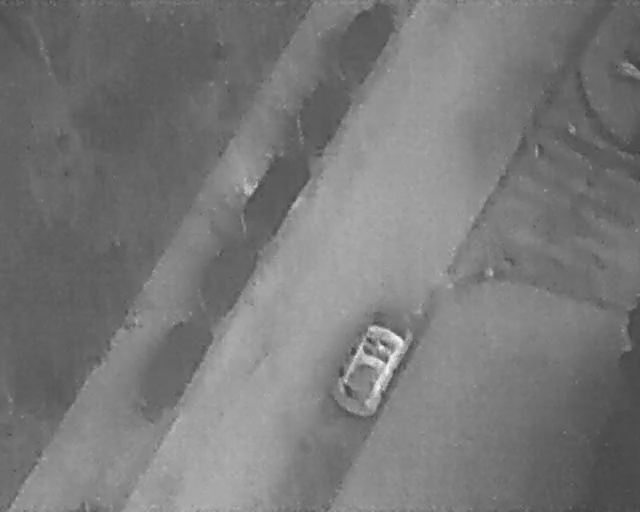Car: (329, 314, 416, 423)
